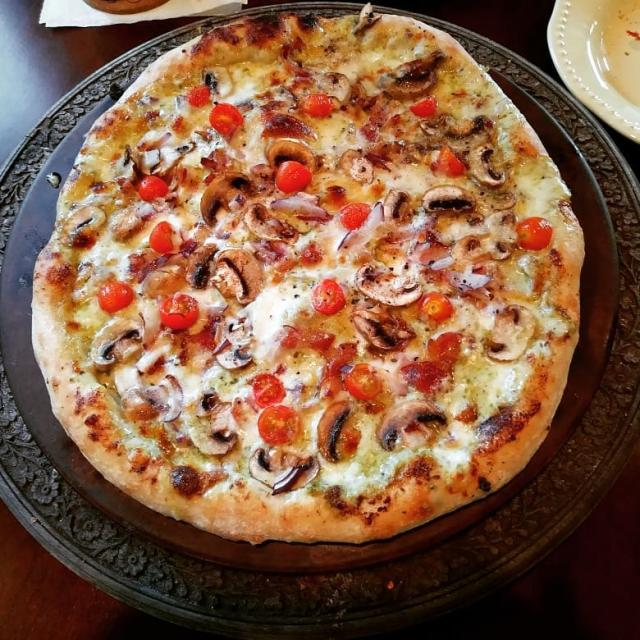mushrooms: (186, 244, 264, 304), (115, 366, 183, 421), (378, 400, 447, 451), (379, 50, 445, 100), (124, 130, 198, 174), (250, 449, 320, 495), (419, 115, 496, 154), (189, 392, 237, 454), (355, 264, 423, 306), (486, 305, 535, 361), (318, 400, 361, 462), (200, 172, 250, 225), (89, 318, 144, 366), (448, 223, 516, 260), (288, 71, 352, 104), (61, 204, 106, 248), (215, 316, 252, 369), (244, 204, 298, 240), (265, 138, 319, 170), (235, 95, 295, 122), (469, 144, 506, 187), (368, 334, 418, 364), (421, 185, 475, 212), (382, 188, 412, 220), (485, 196, 516, 212)
pizza: (32, 10, 584, 543)
tomatoes: (248, 369, 306, 446), (301, 267, 347, 318), (341, 353, 387, 402), (515, 206, 558, 254), (268, 159, 323, 195), (128, 170, 174, 206), (418, 288, 458, 328), (160, 286, 195, 330), (207, 99, 244, 140), (98, 274, 132, 318), (400, 92, 452, 120), (338, 192, 373, 231), (145, 216, 179, 256), (427, 145, 463, 177), (301, 93, 335, 119)
